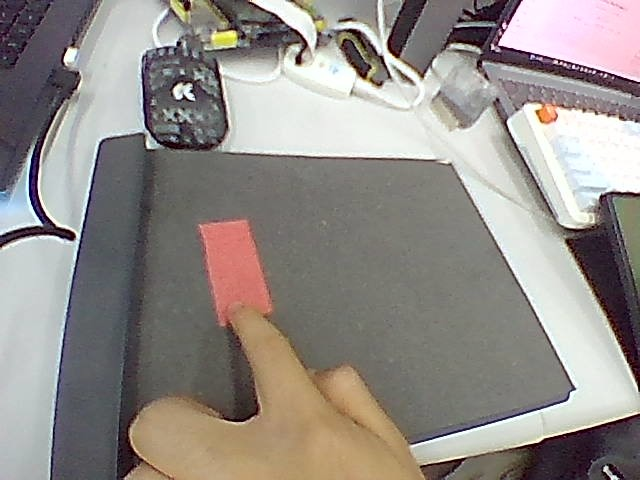card: (199, 220, 272, 324)
